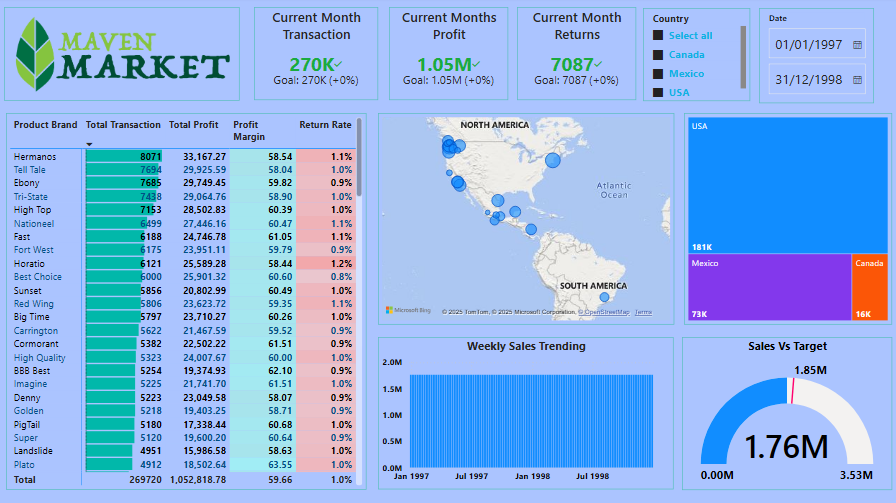

This screenshot's page, from the dashboard's own definition file:
{"tool":"powerbi","page":{"name":"Maven Market Dashboard","canvas":[1280,720],"ordinal":0},"visuals":[{"type":"kpi","title":"Current Month Transaction","fields":{"Indicator":["Measures (2).Total Transaction"],"TrendLine":["Calendar.Start Of Month"],"Goal":["Measures (2).Last Month Transaction"]},"box":[364.3,14.2,175.7,131.8],"z":0},{"type":"kpi","title":" Current Months Profit","fields":{"Indicator":["Measures (2).Profit"],"TrendLine":["Calendar.Start Of Month"],"Goal":["Measures (2).Last Month Profit"]},"box":[555.6,14.2,168.7,131.8],"z":1000},{"type":"kpi","title":"Current Month Returns","fields":{"TrendLine":["Calendar.Start Of Month"],"Goal":["Measures (2).Last Month Returns"],"Indicator":["Measures (2).Total Return"]},"box":[737,14.2,168.7,131.8],"z":2000},{"type":"gauge","title":"Sales Vs Target","fields":{"Y":["Measures (2).Total Sales"],"TargetValue":["Measures (2).Sales Target"]},"box":[970.9,481.9,297.6,216.9],"z":3000},{"type":"columnChart","title":"Weekly Sales Trending","fields":{"Y":["Measures (2).Sales"],"Category":["Calendar.Start of Week"]},"box":[540,482.4,419,216],"z":4000},{"type":"treemap","fields":{"Group":["Stores.store_country","Stores.store_state","Stores.store_city"],"Values":["Measures (2).Total Transaction"]},"box":[973.7,164.4,294.8,300.5],"z":5000},{"type":"map","fields":{"Category":["Stores.store_city"],"Size":["Measures (2).Total Transaction"]},"box":[540,164.4,419.5,300.5],"z":6000},{"type":"pivotTable","fields":{"Rows":["Products.product_brand"],"Values":["Measures (2).Total Transaction","Measures (2).Total Profit","Measures (2).Profit Margin","Measures (2).Return Rate"]},"box":[13,164.2,511.2,534.2],"z":7000},{"type":"image","box":[9.9,14.2,334.5,133.2],"z":8000},{"type":"slicer","fields":{"Values":["Stores.store_country"]},"box":[915.6,15.6,151.7,131.8],"z":9000},{"type":"slicer","fields":{"Values":["Calendar.date"]},"box":[1080,15.6,163,134.6],"z":10000}]}

Visuals, with their boxes in screenshot pixels (x1, y1, x2, y2), scaled from the page's 1280x720 canvas onto the 896x503 screenshot:
"Current Month Transaction" kpi: {"x1": 255, "y1": 10, "x2": 378, "y2": 102}
" Current Months Profit" kpi: {"x1": 389, "y1": 10, "x2": 507, "y2": 102}
"Current Month Returns" kpi: {"x1": 516, "y1": 10, "x2": 634, "y2": 102}
"Sales Vs Target" gauge: {"x1": 680, "y1": 337, "x2": 888, "y2": 488}
"Weekly Sales Trending" columnChart: {"x1": 378, "y1": 337, "x2": 671, "y2": 488}
treemap - Stores.store_country x Stores.store_state: {"x1": 682, "y1": 115, "x2": 888, "y2": 325}
map - Stores.store_city x Measures (2).Total Transaction: {"x1": 378, "y1": 115, "x2": 672, "y2": 325}
pivotTable - Products.product_brand x Measures (2).Total Transaction: {"x1": 9, "y1": 115, "x2": 367, "y2": 488}
image: {"x1": 7, "y1": 10, "x2": 241, "y2": 103}
slicer - Stores.store_country: {"x1": 641, "y1": 11, "x2": 747, "y2": 103}
slicer - Calendar.date: {"x1": 756, "y1": 11, "x2": 870, "y2": 105}
